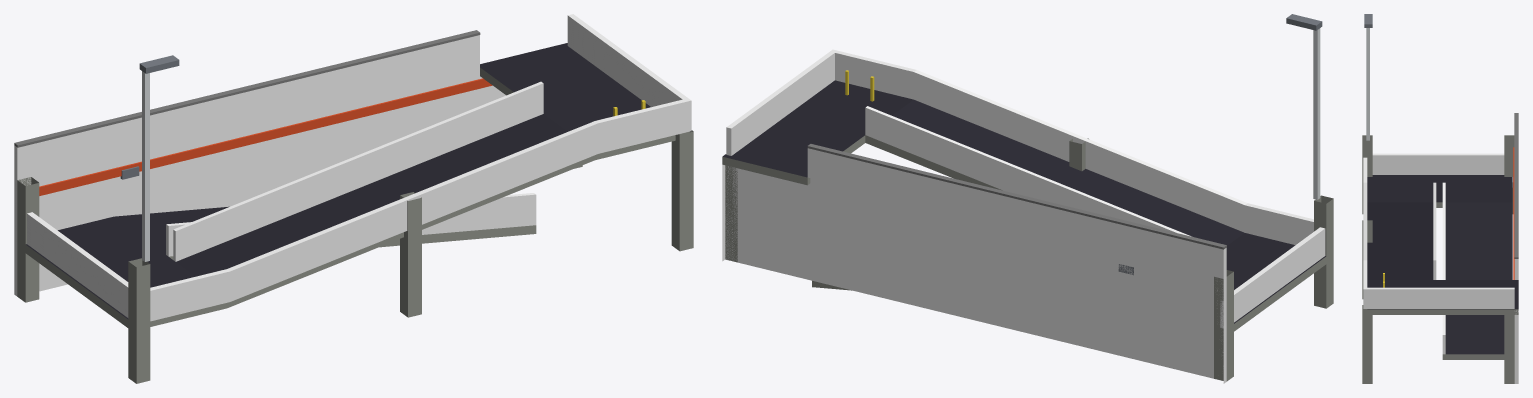
Rendered from top-stair3_close.fbx.
3 views of the same model, side by side, from view 1: azimuth 30°, elevation 25°; view 2: azimuth 150°, elevation 25°; view 3: azimuth 270°, elevation 25° (orthographic). The views are drawn at different scales.
Visible parts, largest first — view 1: a2008/0/top-stair3_close; view 2: a2008/0/top-stair3_close; view 3: a2008/0/top-stair3_close.
Part boxes in pixels (x1,y1,x2,y2): a2008/0/top-stair3_close: (14, 14, 693, 383); a2008/0/top-stair3_close: (722, 14, 1333, 383); a2008/0/top-stair3_close: (1362, 14, 1518, 383).
Bounding box in the file's own units: 20 × 11 × 7.6.
